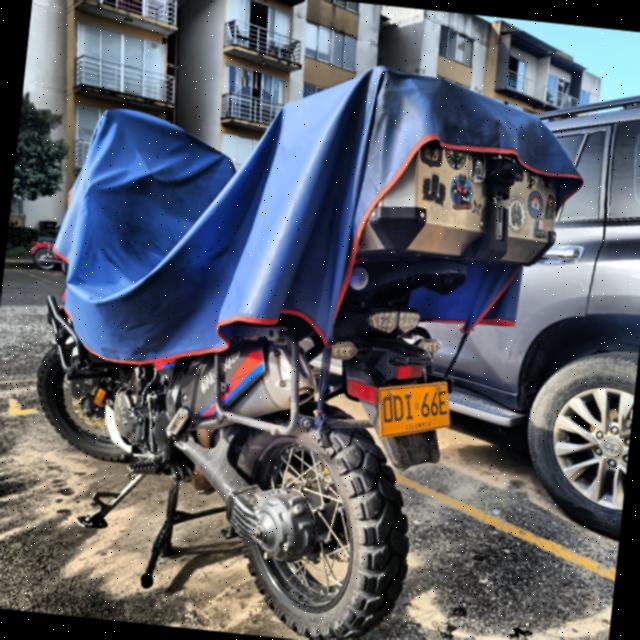plate: (379, 383, 449, 436)
